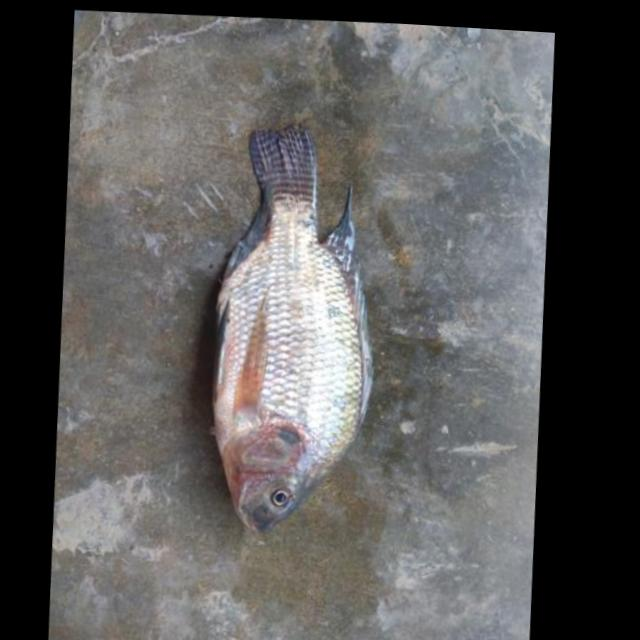Tilapia: (191, 114, 391, 545)
